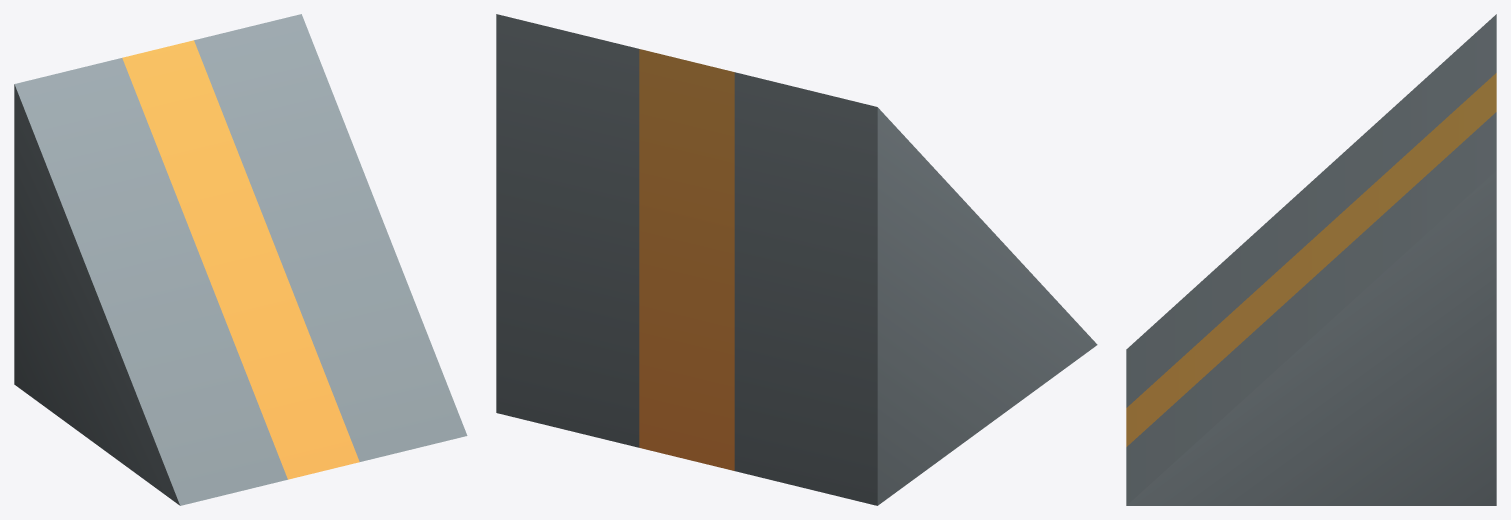
File: ramp_high.gltf.glb
3 renders of one model, left to right at view 1: azimuth 30°, elevation 25°; view 2: azimuth 150°, elevation 25°; view 3: azimuth 270°, elevation 25°, orthographic. The views are drawn at different scales.
Parts seen in each view (by area): view 1: ramp_high; view 2: ramp_high; view 3: ramp_high.
Boxes of the visible parts, bbox=[...] form: ramp_high: bbox=[14, 14, 467, 505]; ramp_high: bbox=[496, 14, 1097, 505]; ramp_high: bbox=[1126, 14, 1496, 505].
Size of the model in its own units: 2 by 2 by 2.
1 material, 1 textured.
